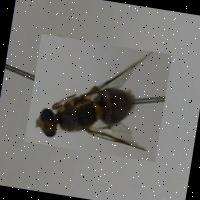Oriental-fruit-fly: (24, 33, 171, 161)
